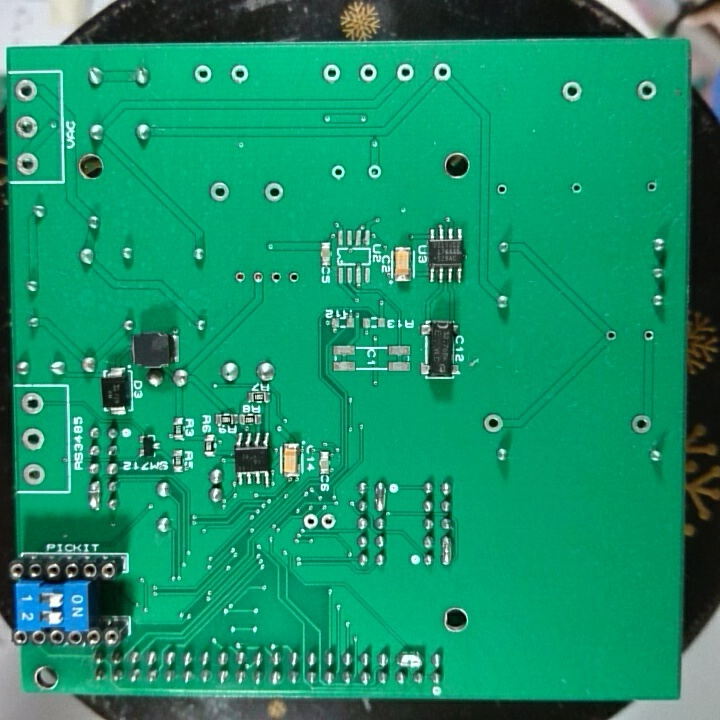F: (628, 409, 654, 440), (19, 426, 47, 454), (14, 149, 41, 178), (19, 389, 45, 418), (12, 114, 41, 140), (12, 77, 41, 103), (20, 462, 48, 488), (559, 77, 584, 104), (227, 61, 252, 87), (479, 410, 505, 435), (207, 179, 231, 206), (634, 78, 659, 103), (262, 179, 286, 205), (189, 62, 214, 86), (432, 59, 453, 86), (321, 62, 343, 86), (356, 62, 379, 84), (394, 61, 417, 83), (328, 163, 349, 183), (602, 326, 622, 346), (319, 511, 337, 533), (285, 265, 301, 289), (642, 177, 662, 196), (568, 178, 587, 197), (250, 269, 268, 289), (365, 161, 383, 181), (301, 512, 319, 531), (268, 267, 285, 287), (232, 268, 248, 288), (640, 326, 657, 344), (494, 180, 510, 199)
P: (394, 649, 425, 672), (439, 532, 455, 569), (85, 478, 102, 511), (373, 478, 388, 513)
